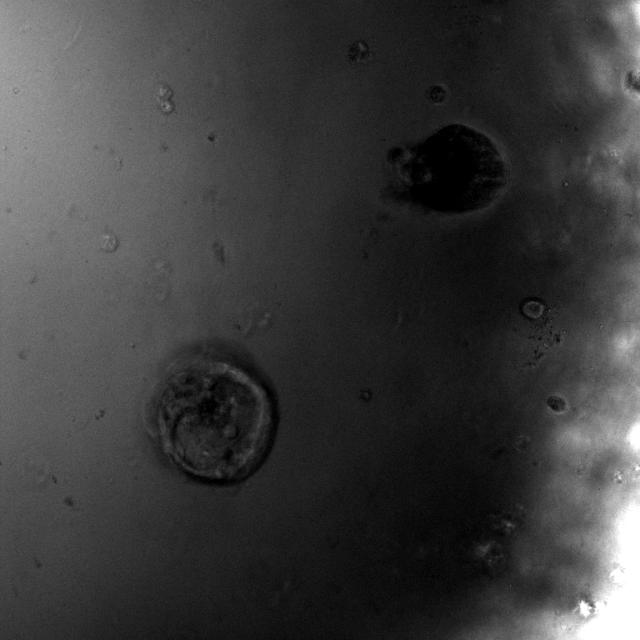organoid: (154, 356, 276, 483), (388, 123, 509, 214)
